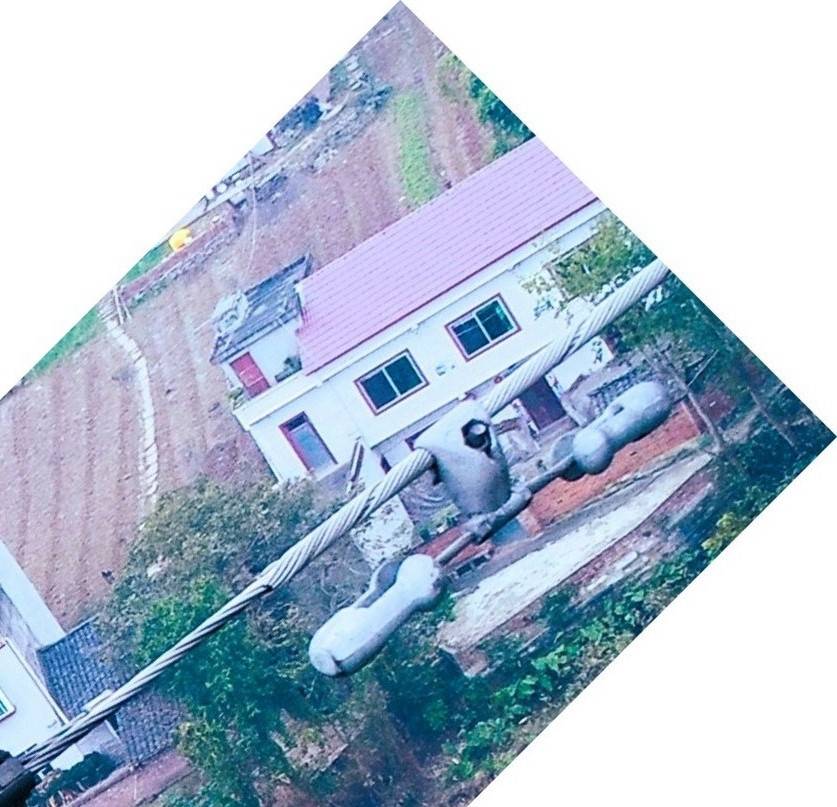Shockproof hammer: (304, 334, 681, 698)
